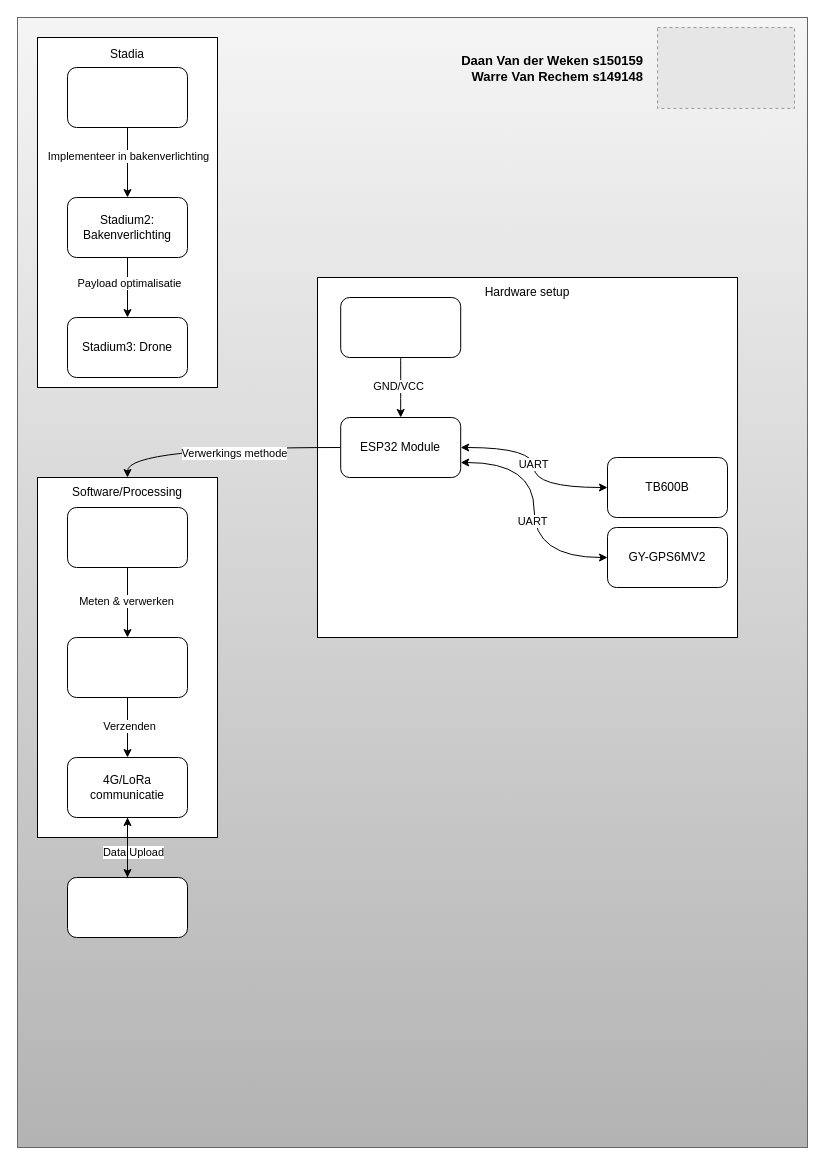
Some shapes in this 825 by 1165 pixel diagram are drawn without their labels. Grey dashed boxes stand in for pictures. Each missing label, with the centre of its shape:
AP Terra Platform (monitoring & beheer): the point at 127,907
Data overdracht (NOX + GPS): the point at 127,667
Energievoorziening (batterij drone): the point at 400,327
ESP-IDF: Firmware: the point at 127,537
Stadium1: Standalone: the point at 127,97
